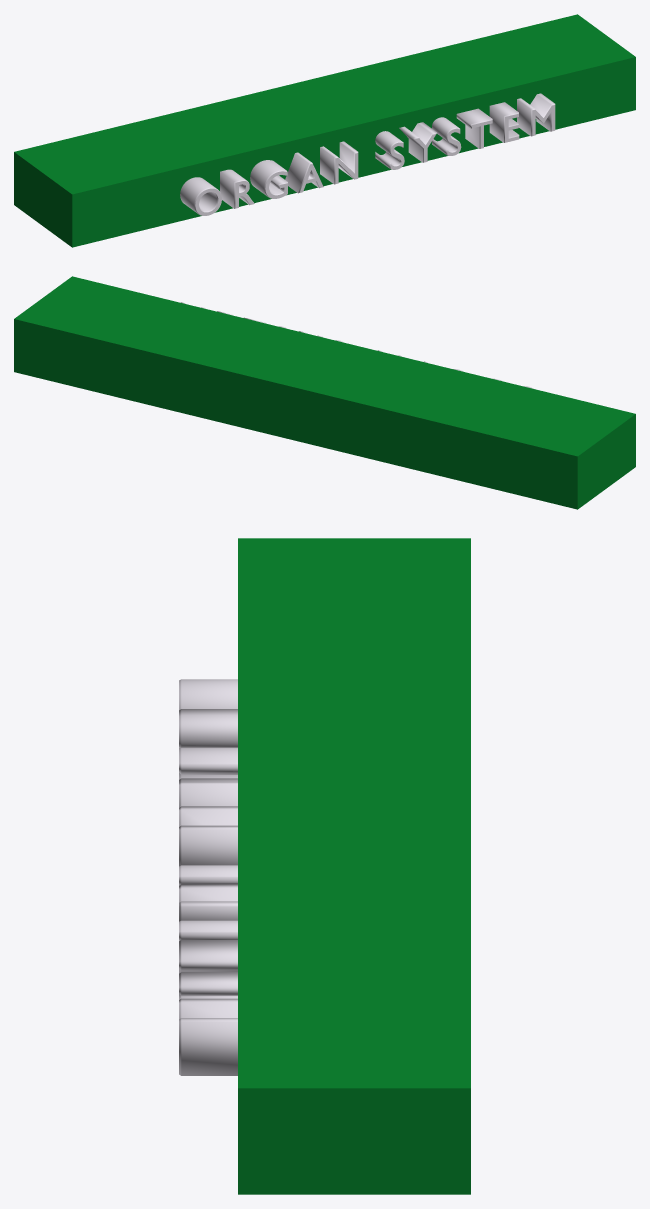
The model's file is organsystem.gltf.
3 renders of one model, top to bottom at view 1: azimuth 30°, elevation 25°; view 2: azimuth 150°, elevation 25°; view 3: azimuth 270°, elevation 25°, orthographic. The views are drawn at different scales.
Parts seen in each view (by area): view 1: Cube.003, CEELS.003; view 2: Cube.003; view 3: Cube.003, CEELS.003.
Part boxes in pixels (bbox=[...]): Cube.003: bbox=[14, 14, 635, 247]; CEELS.003: bbox=[180, 93, 555, 215]; Cube.003: bbox=[14, 276, 635, 509]; Cube.003: bbox=[238, 538, 470, 1194]; CEELS.003: bbox=[179, 679, 237, 1075].
Bounding box in the file's own units: 7.73 × 0.6962 × 1.73.
